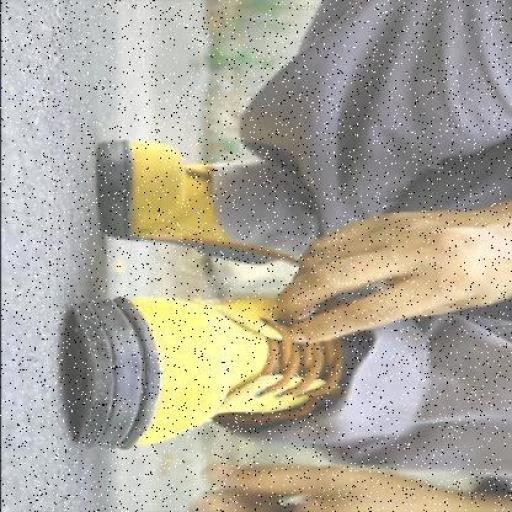safety_shoe: (60, 297, 335, 454), (95, 138, 306, 267)
